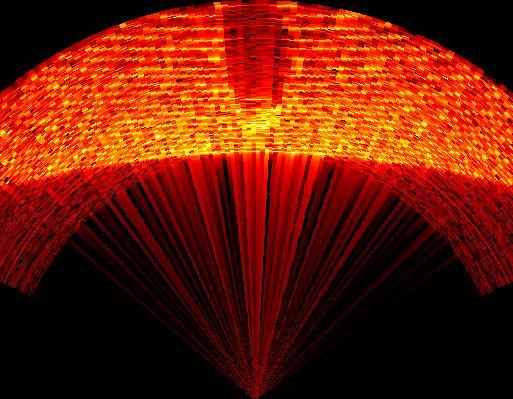box_crate: (222, 4, 298, 118)
